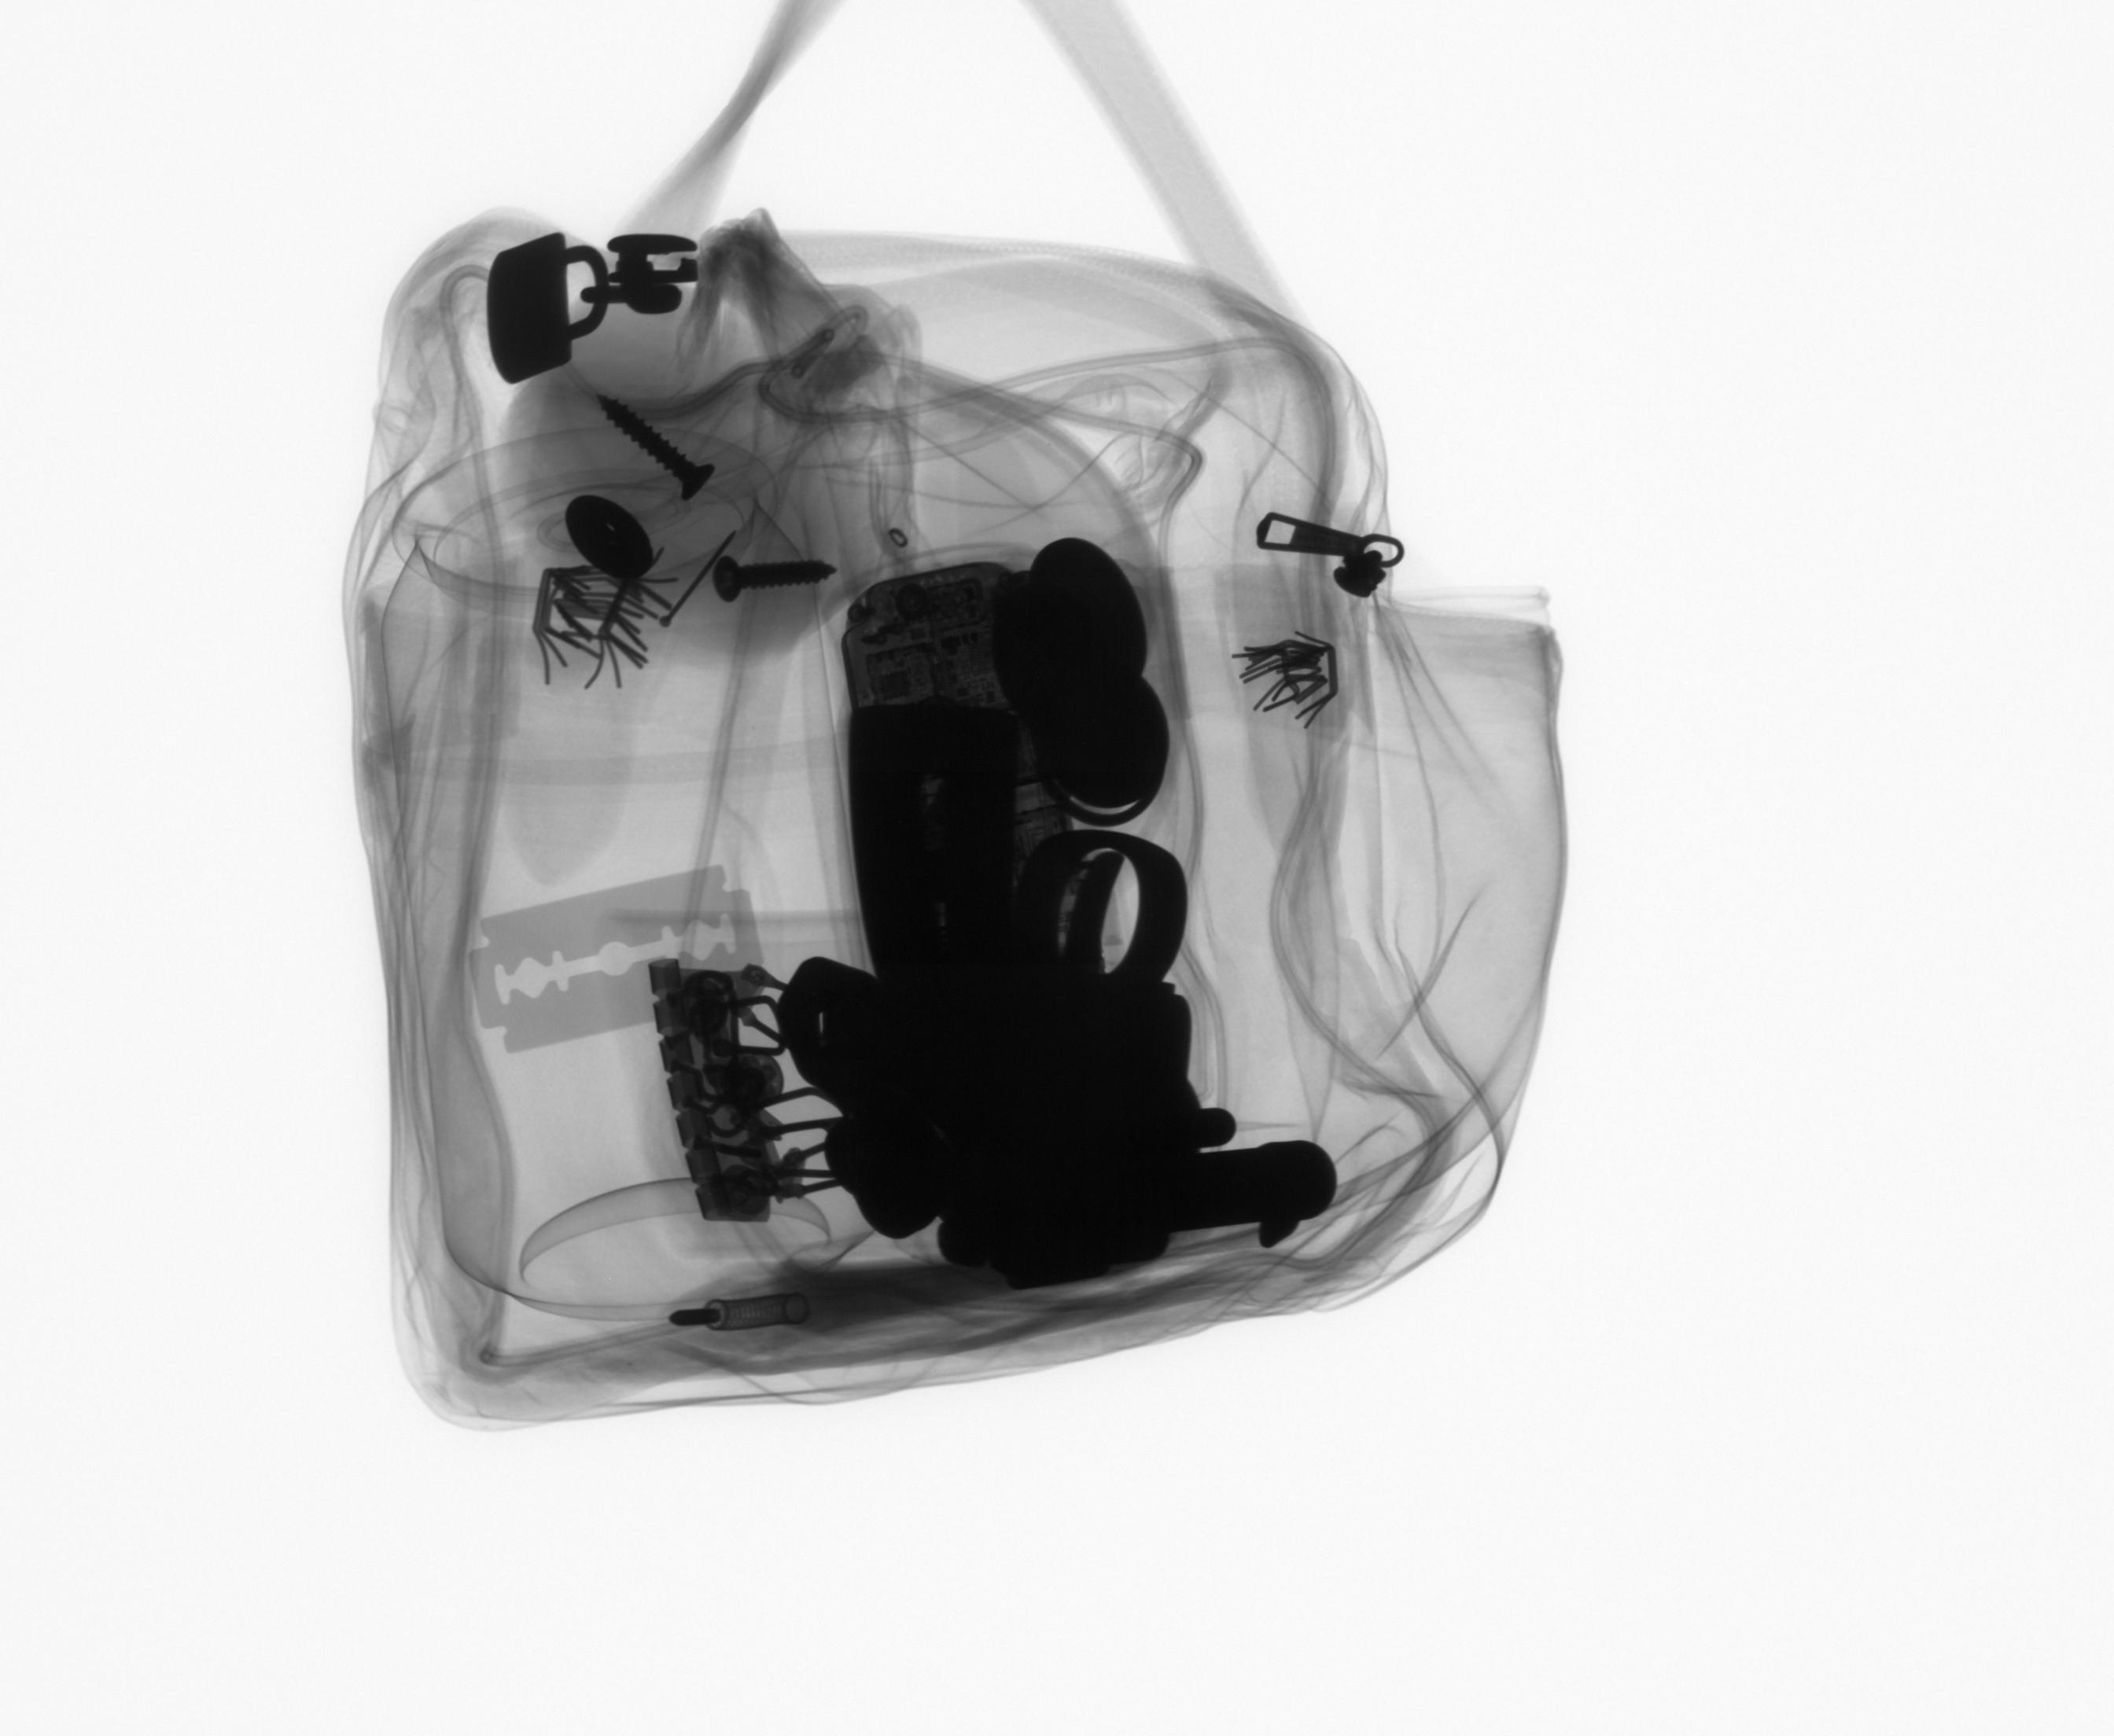Handgun: (830, 697, 1347, 1299)
RazorBlade: (457, 857, 776, 1060)
